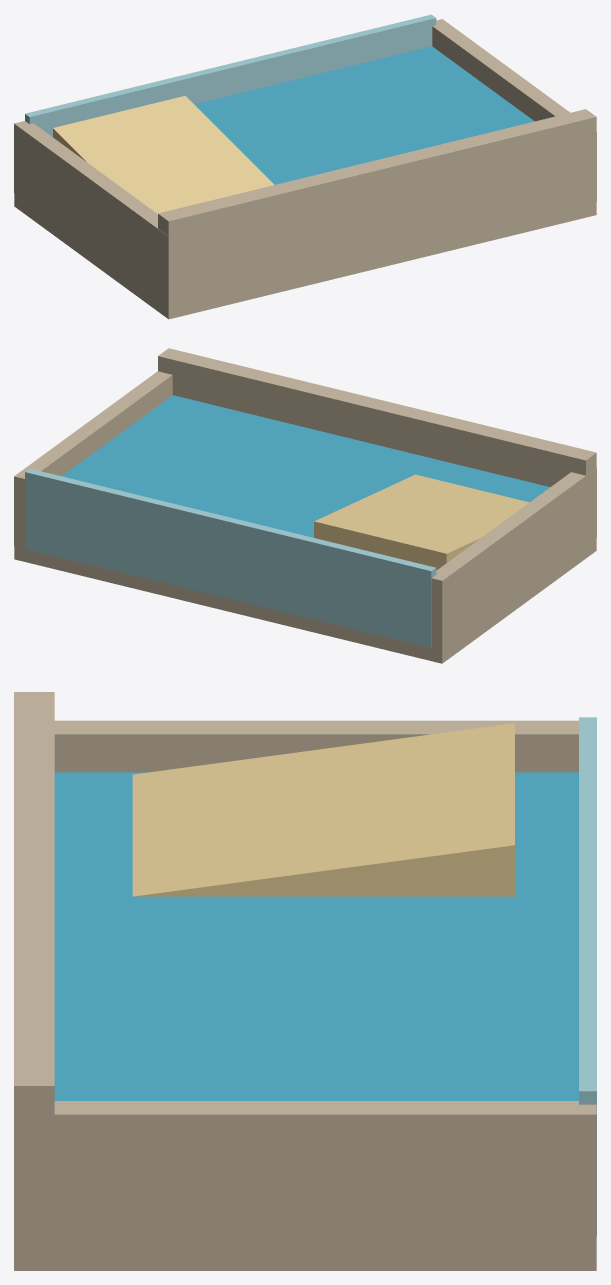
The model's file is pool_rect_L.fbx.
3 views of the same model, one above another, from view 1: azimuth 30°, elevation 25°; view 2: azimuth 150°, elevation 25°; view 3: azimuth 270°, elevation 25° (orthographic). The views are drawn at different scales.
Visible parts, largest first — view 1: pool_rect_L; view 2: pool_rect_L; view 3: pool_rect_L.
Part boxes in pixels (bbox=[...]): pool_rect_L: bbox=[14, 14, 596, 319]; pool_rect_L: bbox=[14, 348, 596, 663]; pool_rect_L: bbox=[14, 692, 596, 1270].
Size of the model in its own units: 16 by 3.5 by 10.
